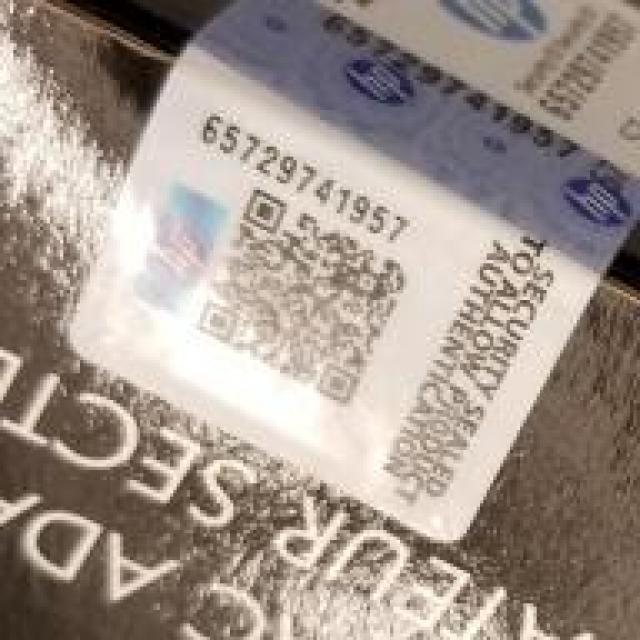QR_CODE: (190, 173, 417, 417)
